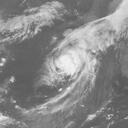cyclone: (47, 21, 99, 82)
